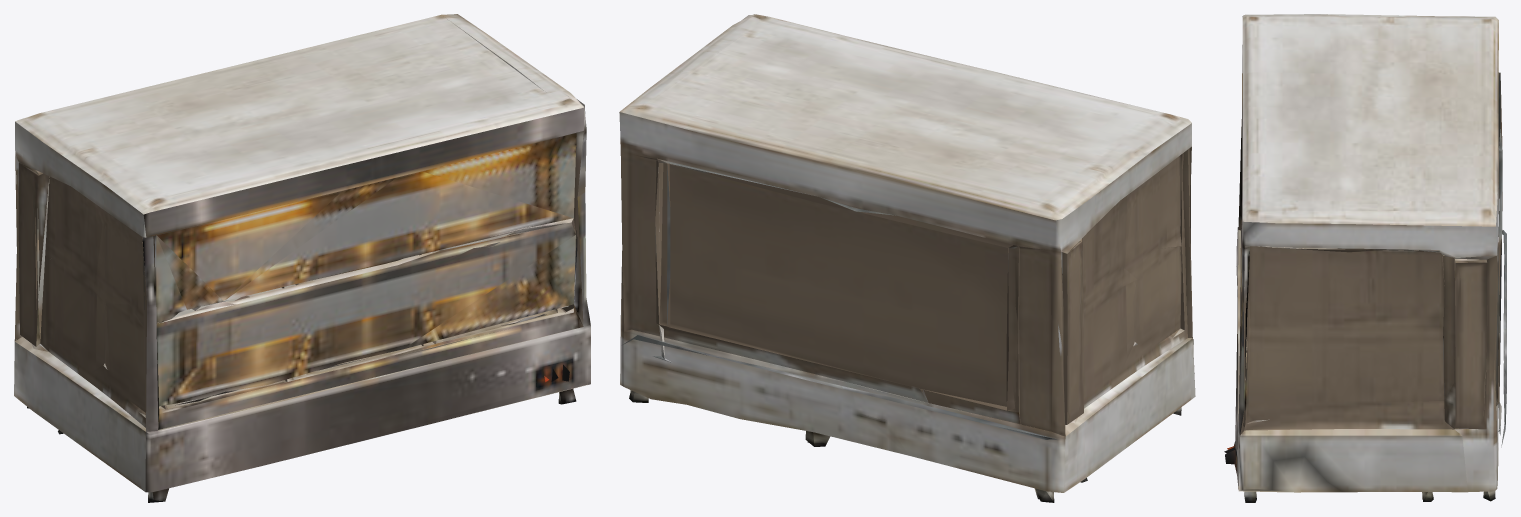
The model's file is shop-display.glb.
The picture shows the model from 3 angles, left to right: view 1: azimuth 30°, elevation 25°; view 2: azimuth 150°, elevation 25°; view 3: azimuth 270°, elevation 25°; orthographic projection. The views are drawn at different scales.
Visible parts, largest first — view 1: shopDisplay; view 2: shopDisplay; view 3: shopDisplay.
Boxes of the visible parts, left/top/right/bottom form: shopDisplay: left=14, top=14, right=590, bottom=502; shopDisplay: left=619, top=14, right=1195, bottom=502; shopDisplay: left=1224, top=14, right=1506, bottom=502.
Size of the model in its own units: 1.1 by 0.7 by 0.62.
Materials: 1 (1 with a texture image).
